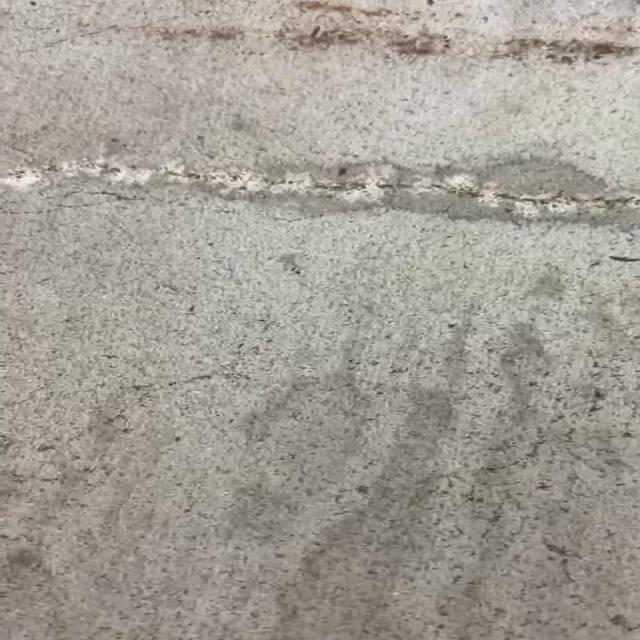Crack: (265, 166, 639, 226)
